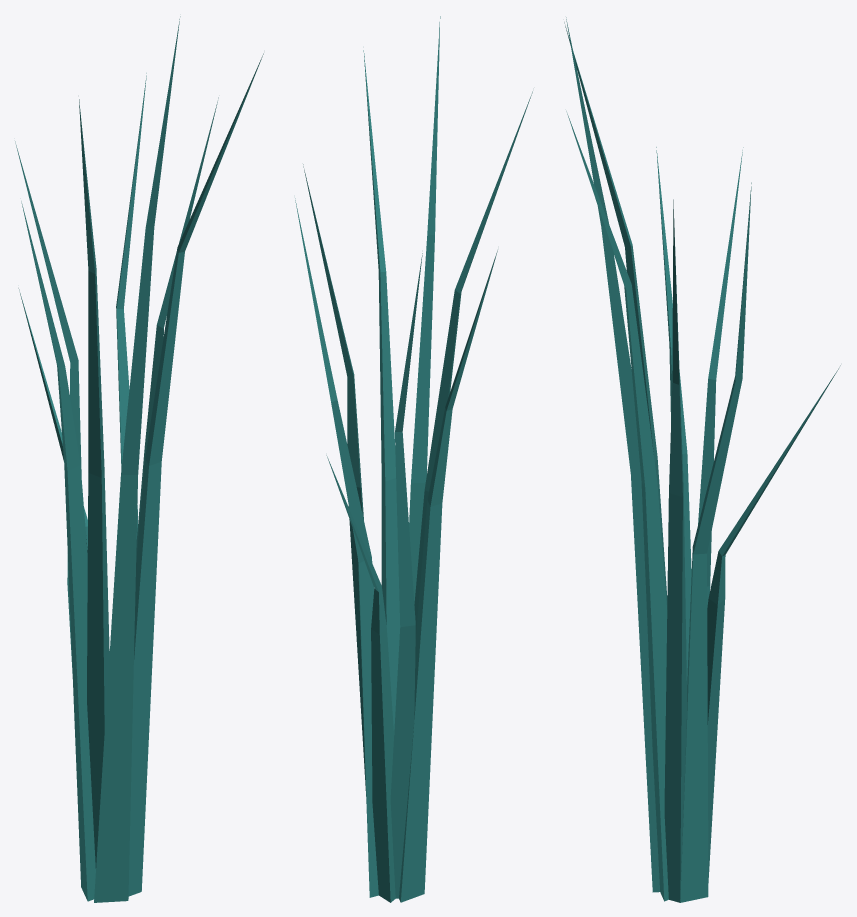
File: Grass_7_Blue.fbx
3 views of the same model, side by side, from view 1: azimuth 30°, elevation 25°; view 2: azimuth 150°, elevation 25°; view 3: azimuth 270°, elevation 25° (orthographic). The views are drawn at different scales.
Visible parts, largest first — view 1: Grass_7_Blue; view 2: Grass_7_Blue; view 3: Grass_7_Blue.
Part boxes in pixels (bbox=[...]): Grass_7_Blue: bbox=[15, 16, 263, 902]; Grass_7_Blue: bbox=[295, 16, 532, 902]; Grass_7_Blue: bbox=[564, 17, 840, 902].
Size of the model in its own units: 23.91 by 101 by 28.97.
